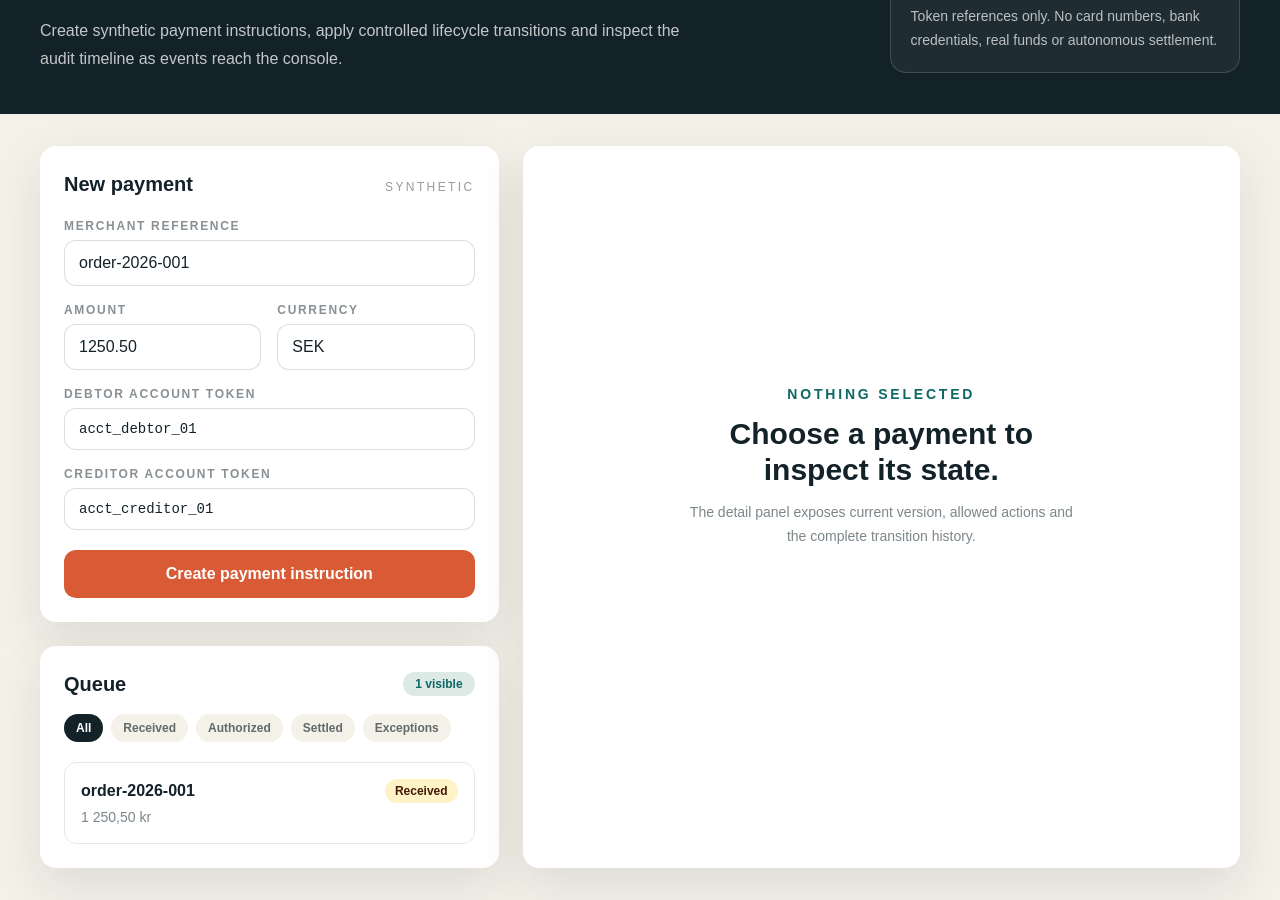
Test: PaymentConsole › loads the queue and opens a payment timeline
The image size is (1280, 900).
(page scrolled)
Step 1. Click the button "order-2026-001" → click(138, 790), box [64,762,475,844]
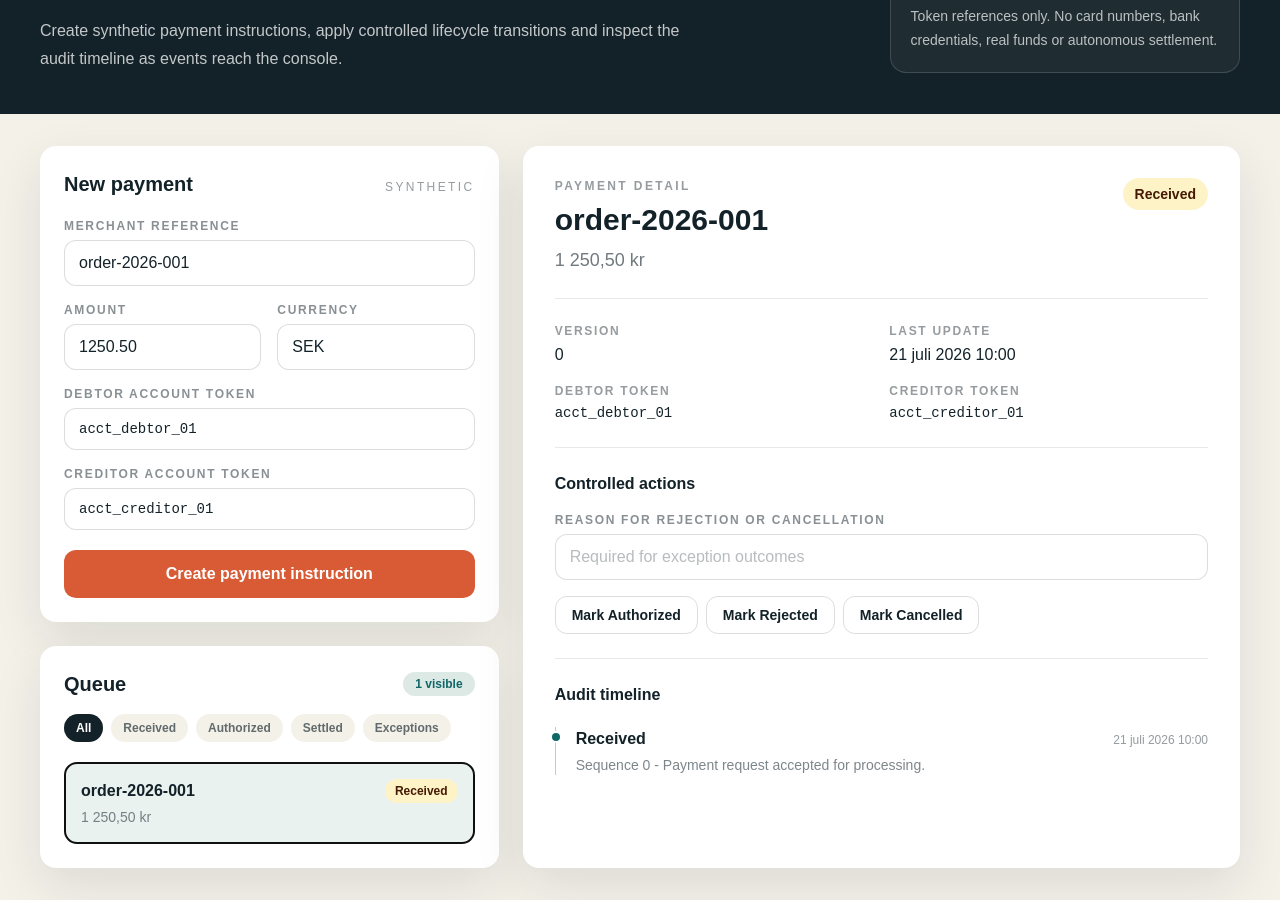
Expected: the heading "Audit timeline" is shown, [555,686,660,703]
Expected: the text "acct_debtor_01" is shown, [555,405,672,421]
Expected: the button "Mark Authorized" is shown, [555,596,698,634]
